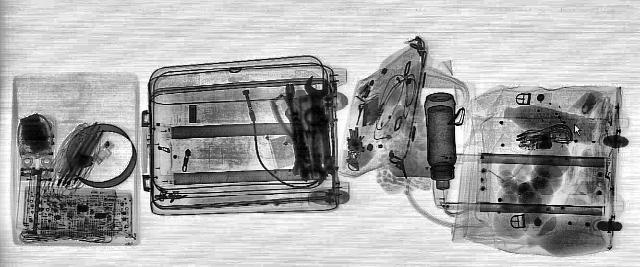Wrench: (304, 75, 330, 131)
